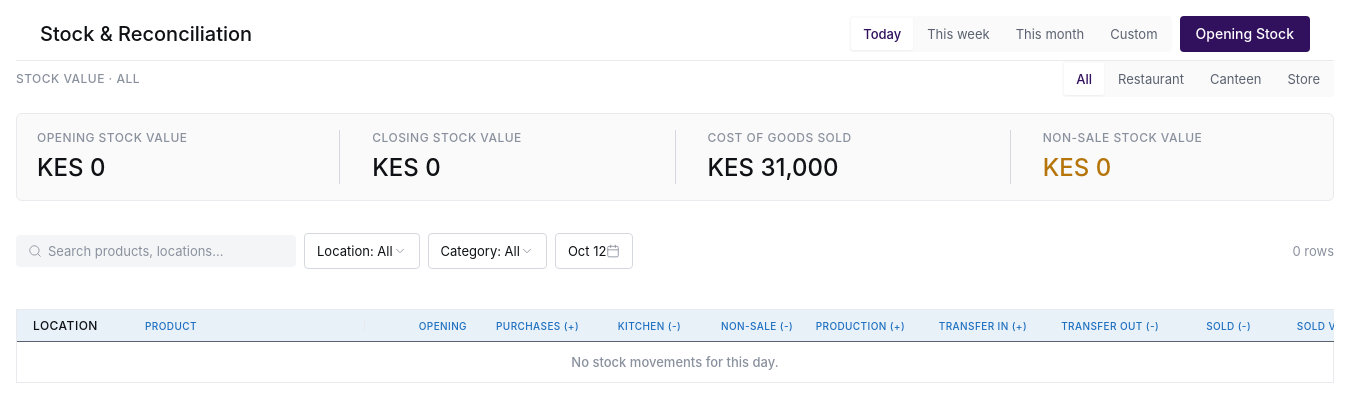
Scenario: /admin/stock — Ledger v2 KPI band › the scope toggle relabels COGS to 'Stock Issued Out' for the Store
Click the radio button labelled "Store" at (1304, 79), box [1276,63,1332,95]
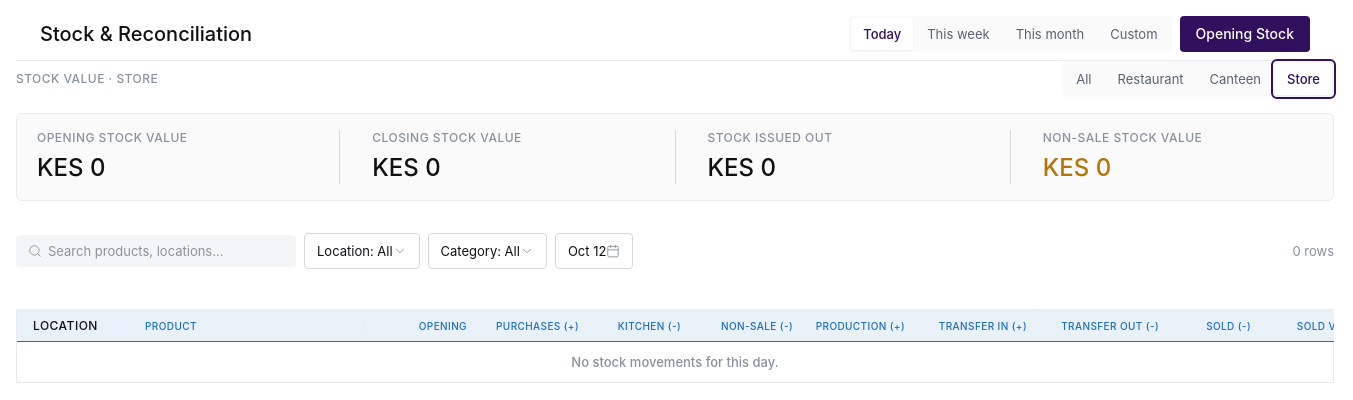
Now the text "Stock Issued Out" is shown, box [708,130,832,145]
